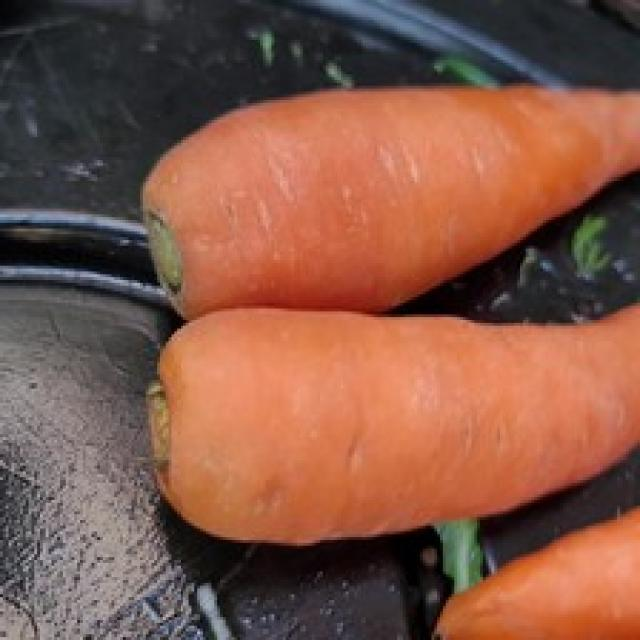carrot: (147, 307, 640, 547), (135, 82, 640, 310)
